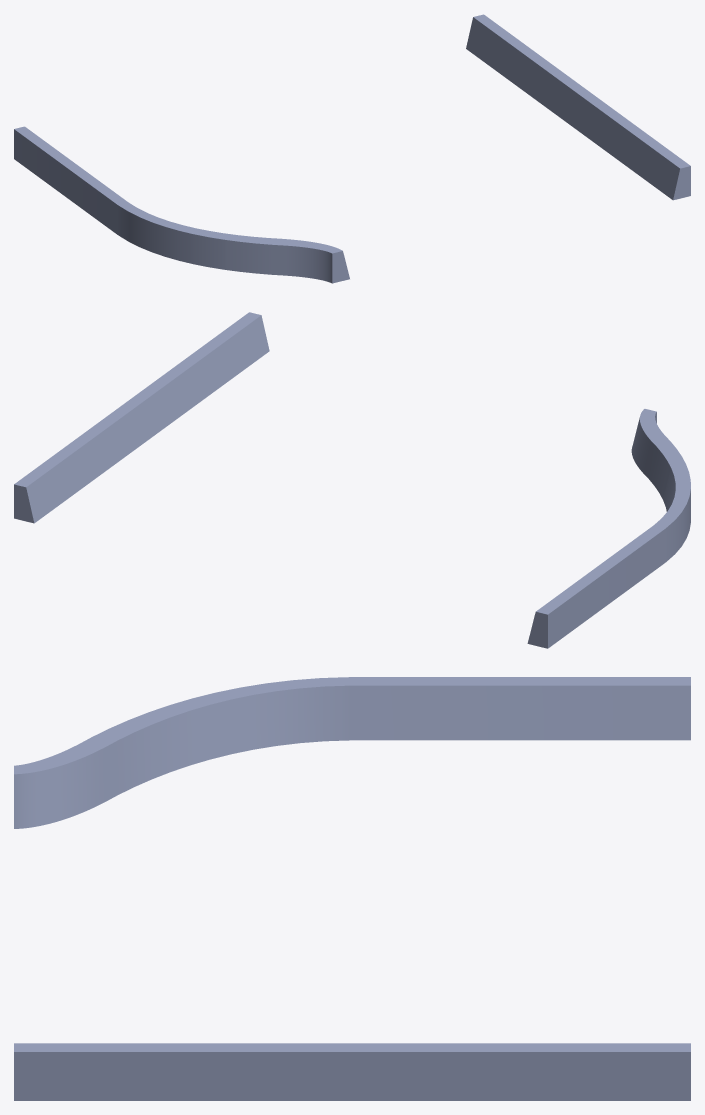
File: road-side-exit-barrier.glb
The picture shows the model from 3 angles, top to bottom: view 1: azimuth 30°, elevation 25°; view 2: azimuth 150°, elevation 25°; view 3: azimuth 270°, elevation 25°; orthographic projection. The views are drawn at different scales.
Visible parts, largest first — view 1: road-side-exit-barrier; view 2: road-side-exit-barrier; view 3: road-side-exit-barrier.
Part boxes in pixels (box(x1,y1,x2,y2)): road-side-exit-barrier: box(14, 14, 690, 283); road-side-exit-barrier: box(14, 312, 690, 648); road-side-exit-barrier: box(14, 677, 690, 1100).
Bounding box in the file's own units: 1.31 × 0.08 × 1.
Materials: 1 (1 with a texture image).
